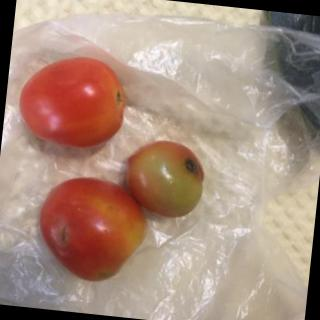Tomat: (25, 164, 161, 289), (9, 45, 141, 156), (121, 128, 213, 223)
